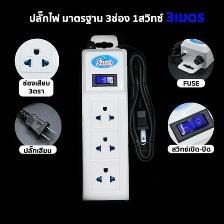three_eye_plug: (76, 44, 131, 204), (15, 37, 58, 80), (172, 35, 214, 77)
